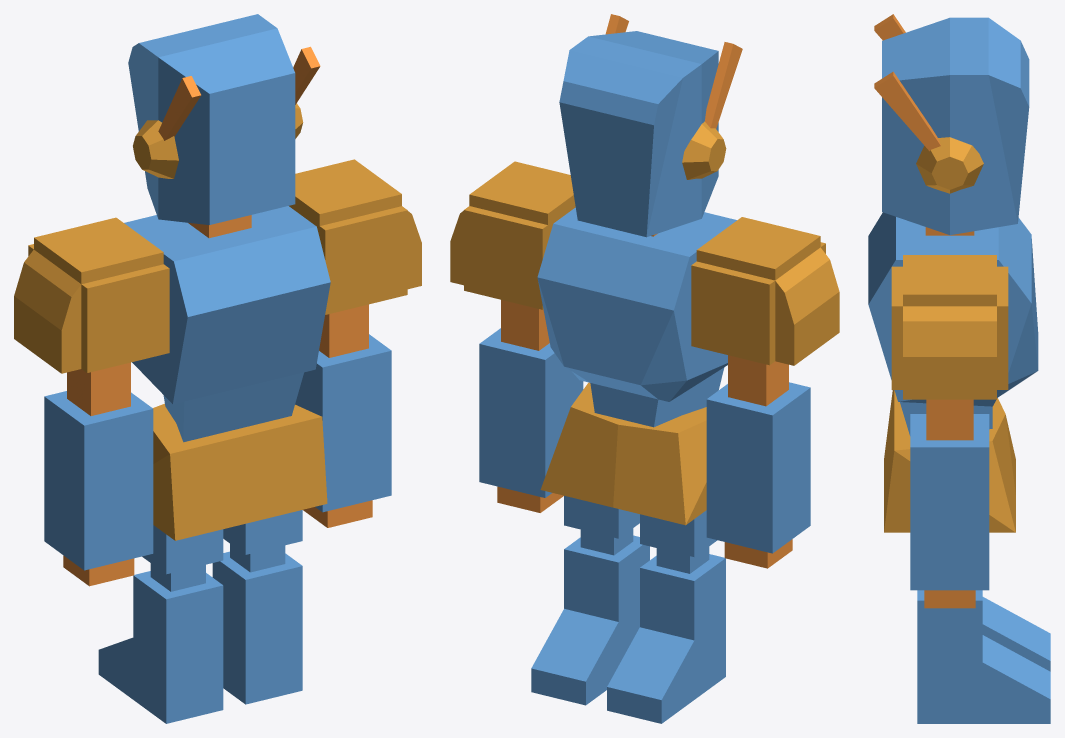
Rendered from robot.fbx.
3 views of the same model, side by side, from view 1: azimuth 30°, elevation 25°; view 2: azimuth 150°, elevation 25°; view 3: azimuth 270°, elevation 25° (orthographic). The views are drawn at different scales.
Parts seen in each view (by area): view 1: robot; view 2: robot; view 3: robot.
Boxes of the visible parts, x1,y1,x2,y2 form: robot: [14, 14, 421, 723]; robot: [450, 14, 839, 723]; robot: [868, 14, 1050, 723].
Bounding box in the file's own units: 3.63 × 6.29 × 1.61.
